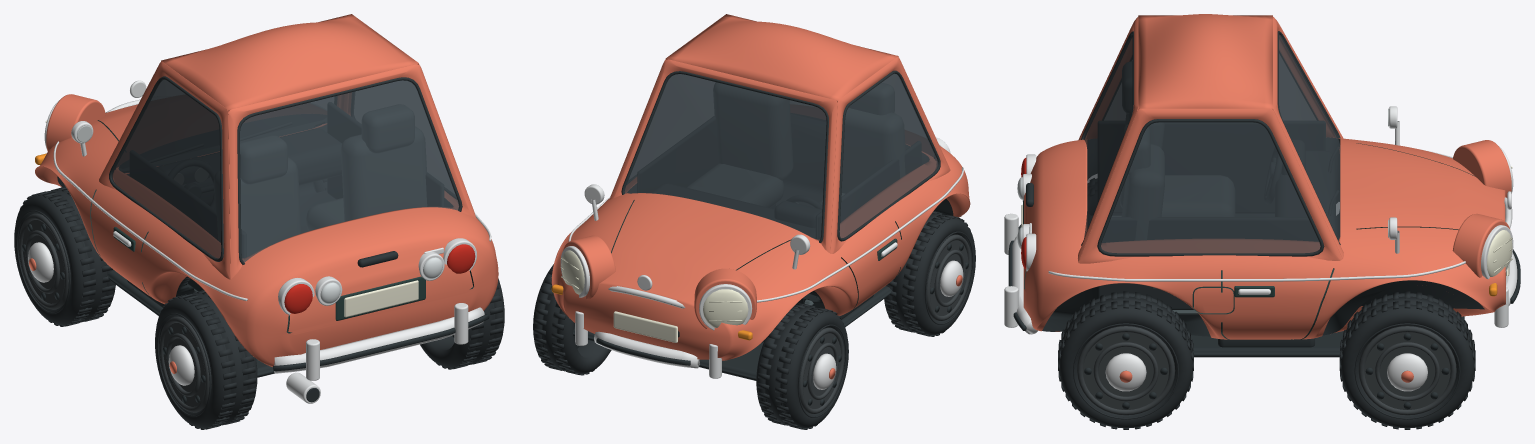
Rendered from bubble.fbx.
The picture shows the model from 3 angles, left to right: view 1: azimuth 30°, elevation 25°; view 2: azimuth 150°, elevation 25°; view 3: azimuth 270°, elevation 25°; orthographic projection. The views are drawn at different scales.
Visible parts, largest first — view 1: Body, Wheel_RL_Mesh, Wheel_FL_Mesh, Wheel_RR_Mesh; view 2: Body, Wheel_FL_Mesh, Wheel_RL_Mesh, Wheel_FR_Mesh; view 3: Body, Wheel_FR_Mesh, Wheel_RR_Mesh.
Boxes of the visible parts, x1,y1,x2,y2 form: Body: [35, 14, 498, 403]; Wheel_RL_Mesh: [155, 290, 257, 429]; Wheel_FL_Mesh: [14, 186, 115, 326]; Wheel_RR_Mesh: [420, 278, 504, 369]; Body: [551, 14, 970, 380]; Wheel_FL_Mesh: [756, 303, 848, 429]; Wheel_RL_Mesh: [884, 211, 975, 336]; Wheel_FR_Mesh: [533, 264, 611, 375]; Body: [1004, 14, 1520, 357]; Wheel_FR_Mesh: [1339, 291, 1475, 429]; Wheel_RR_Mesh: [1058, 291, 1193, 429].
Bounding box in the file's own units: 178 × 178 × 253.
